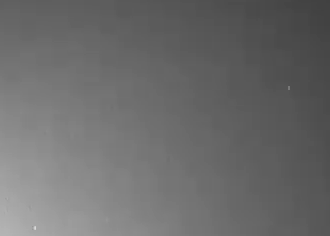Target: (35, 87, 289, 229)
